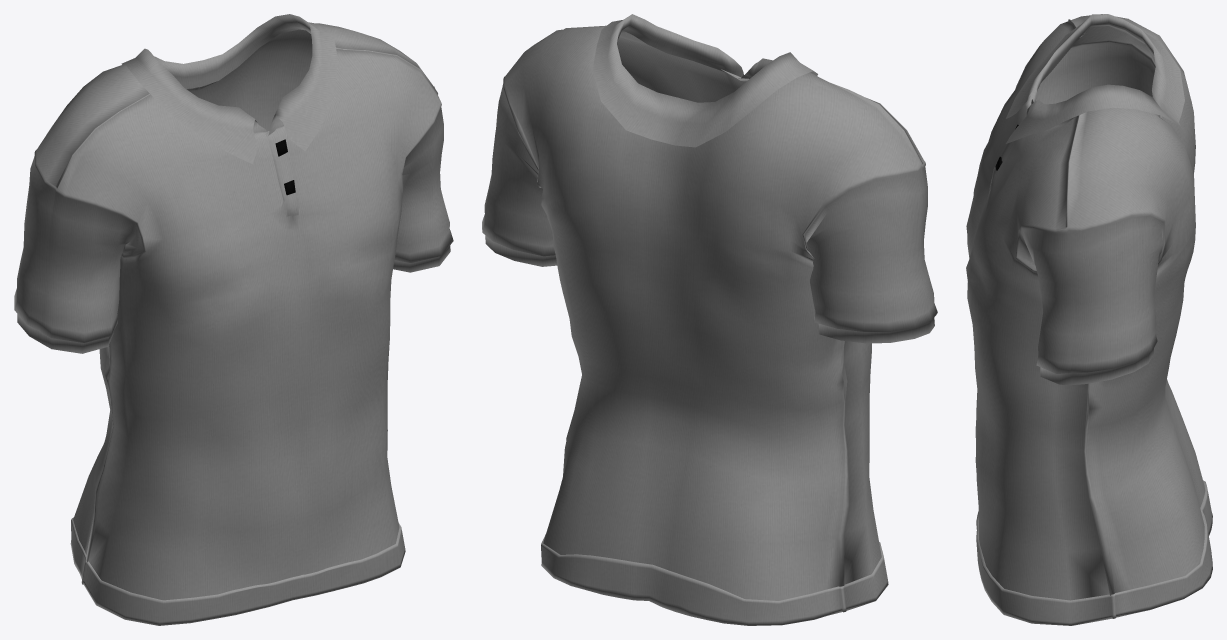
File: top_polo.gltf
3 renders of one model, left to right at view 1: azimuth 30°, elevation 25°; view 2: azimuth 150°, elevation 25°; view 3: azimuth 270°, elevation 25°, orthographic. The views are drawn at different scales.
Visible parts, largest first — view 1: top_polo; view 2: top_polo; view 3: top_polo.
Part boxes in pixels (left/top/right/bottom): top_polo: left=14, top=14, right=453, bottom=625; top_polo: left=482, top=14, right=937, bottom=625; top_polo: left=966, top=14, right=1212, bottom=625.
Bounding box in the file's own units: 0.5316 × 0.6313 × 0.2779.
1 material, 1 textured.
